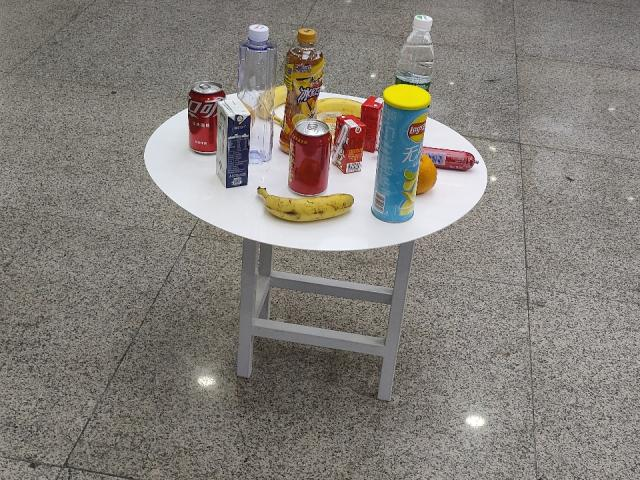Canned_drinks: (290, 123, 330, 197), (190, 83, 218, 155)
bottle: (239, 26, 273, 157), (402, 16, 433, 86)
cylinder: (379, 88, 421, 221)
drink_box: (220, 102, 251, 189), (334, 118, 360, 176), (362, 97, 377, 151)
